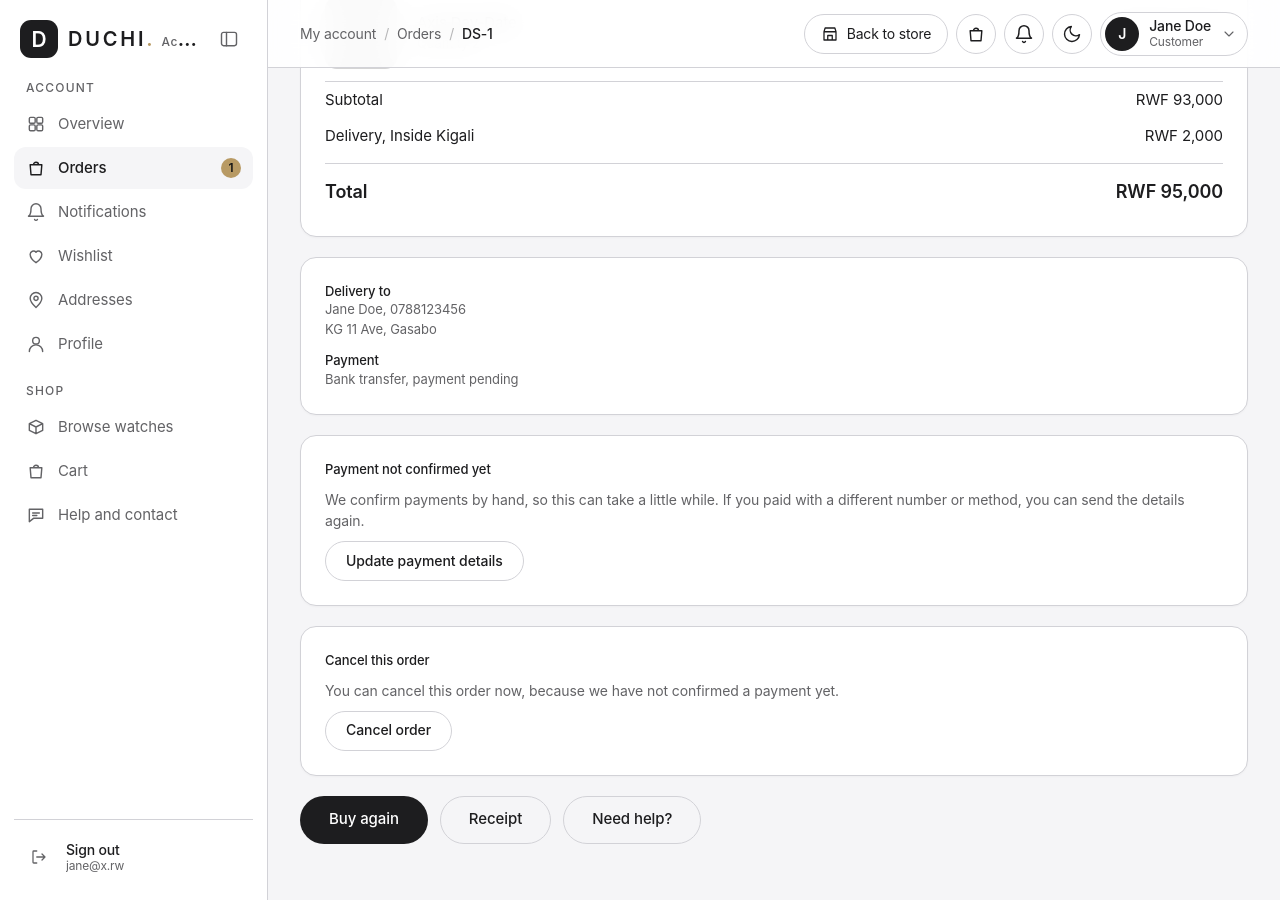
Test: a customer cancels an order that has no confirmed payment › cancels at once after a confirmation in the toast; the watches go back into stock
(page scrolled)
expect the text "You can cancel this order now, because we have not confirmed a payment yet" is shown: met, box [325,682,839,698]
Click the button "Cancel order". click: {"x": 389, "y": 730}
box: [325,710,452,750]
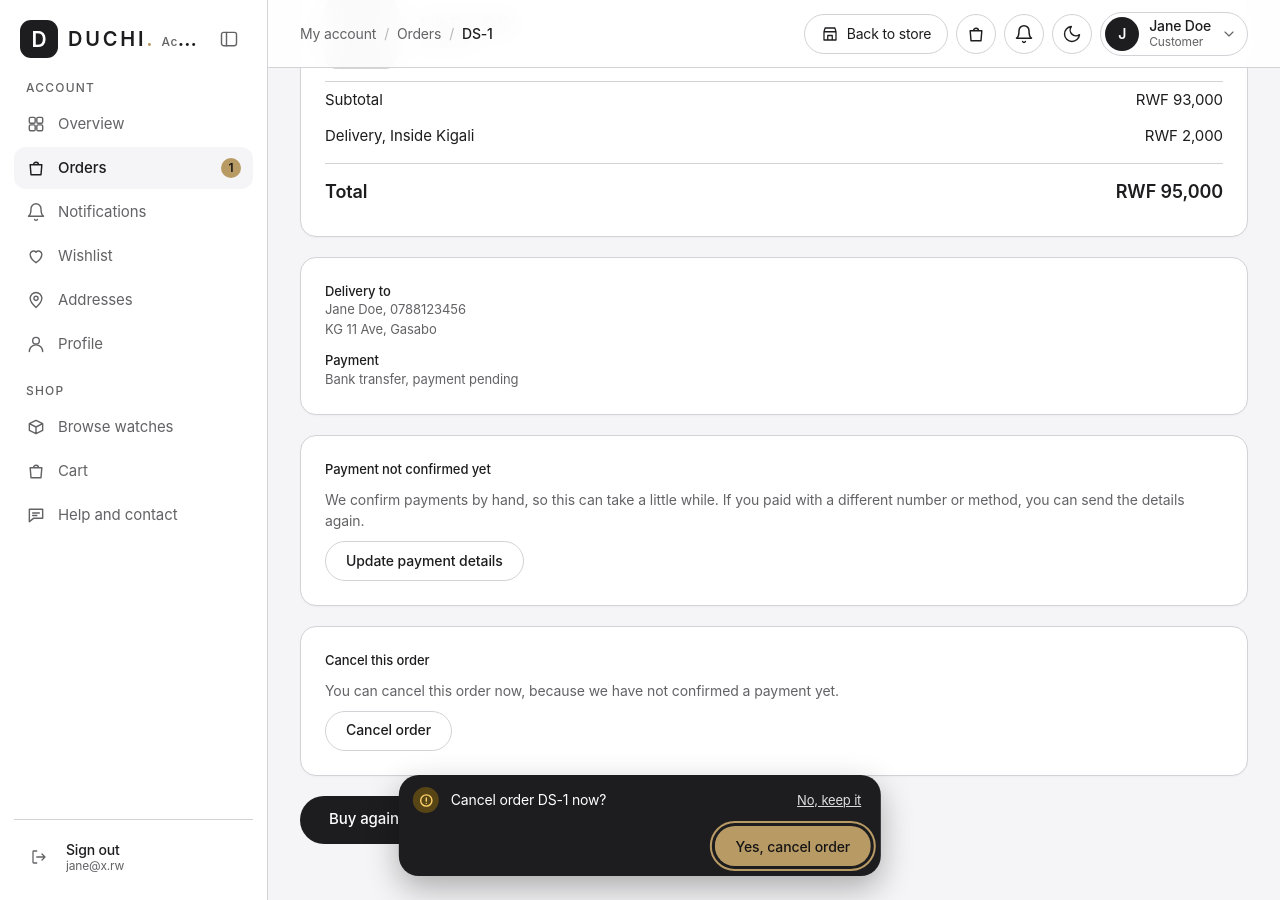
expect the dialog shows "Cancel order DS-1 now?": met, box [451,792,606,808]
Click the button "No, keep it". click: {"x": 829, "y": 800}
box: [787,784,871,816]
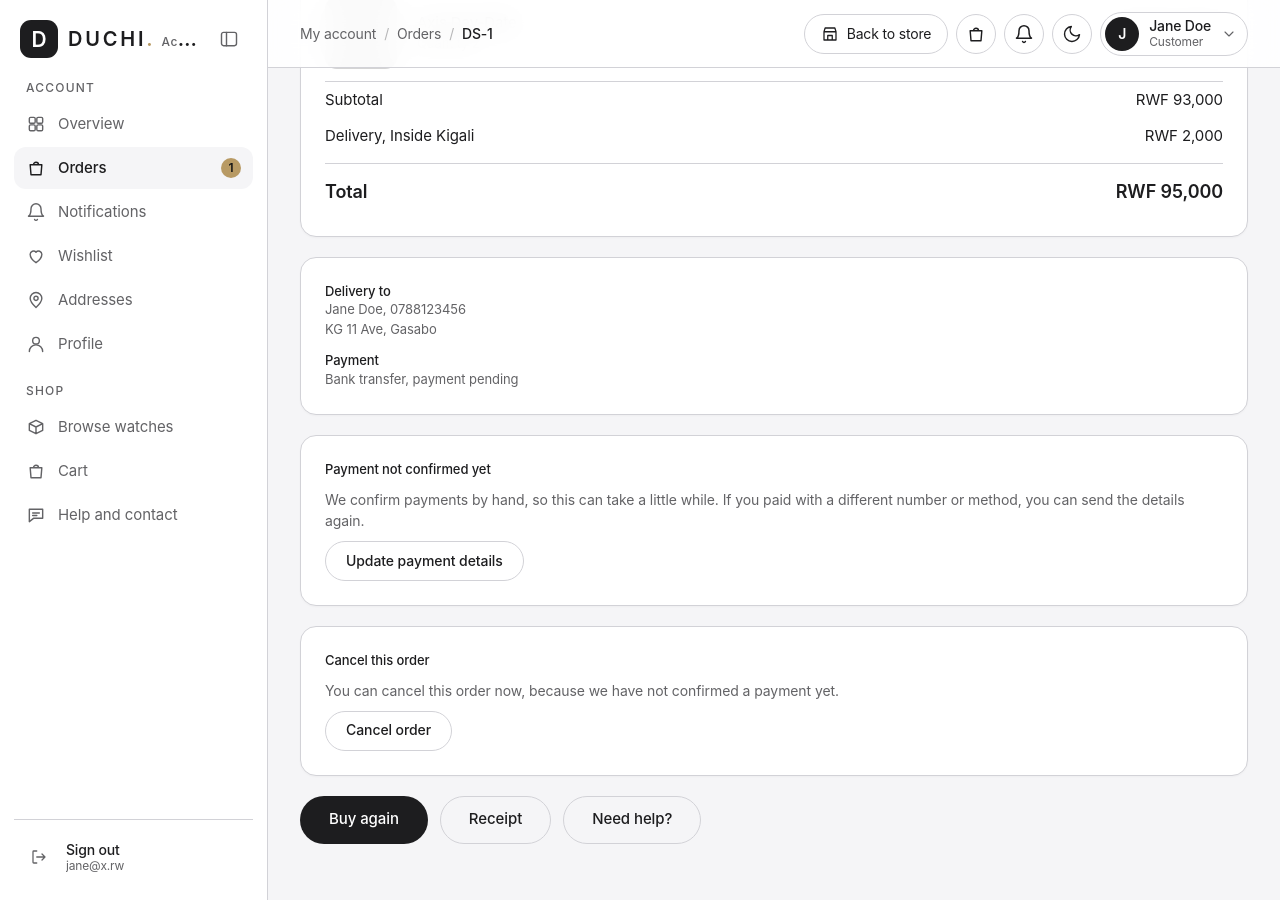
Click the button "Cancel order". click: {"x": 389, "y": 730}
box: [325,710,452,750]
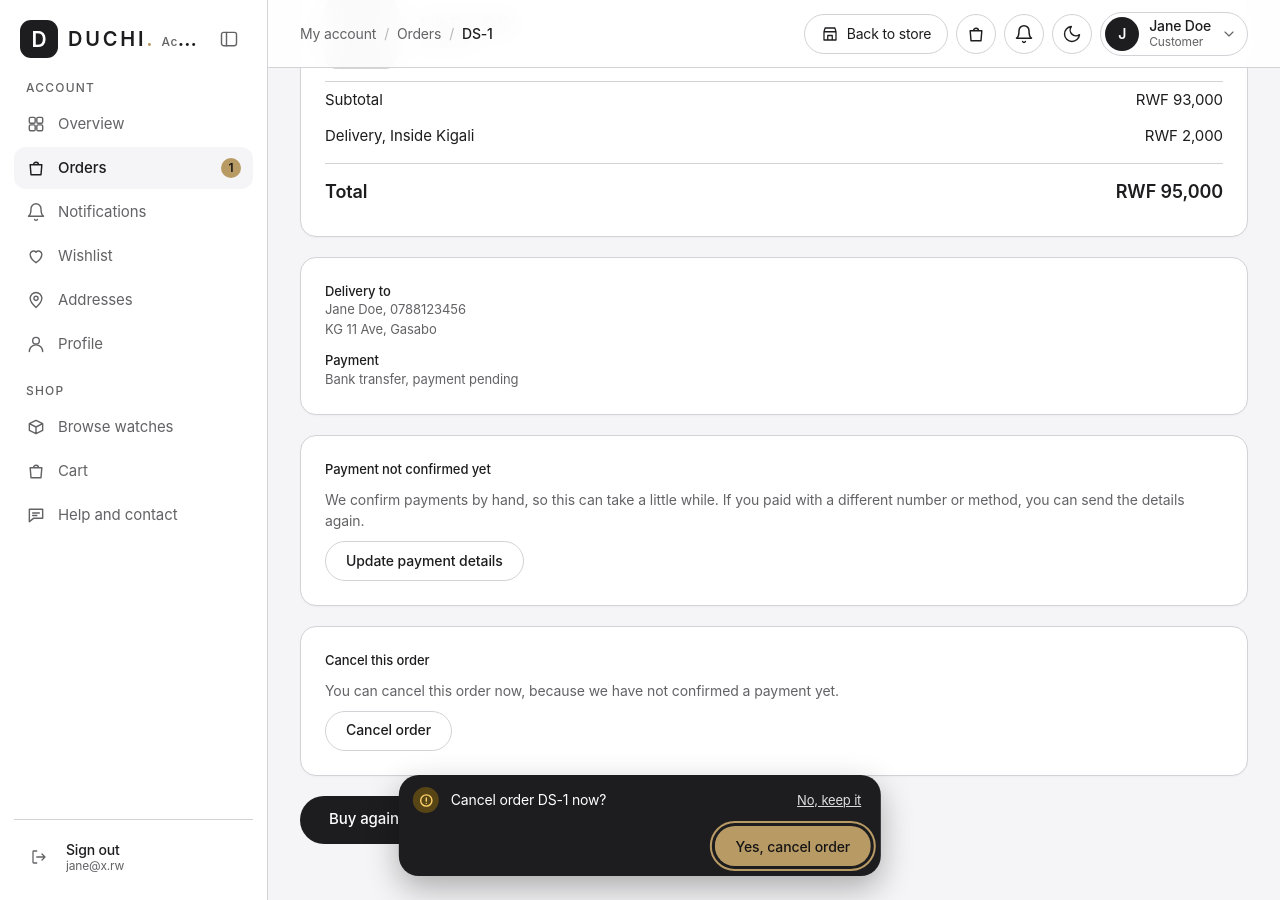
Click the button "Yes, cancel order". click: {"x": 793, "y": 846}
box: [714,826,871,866]
(page scrolled)
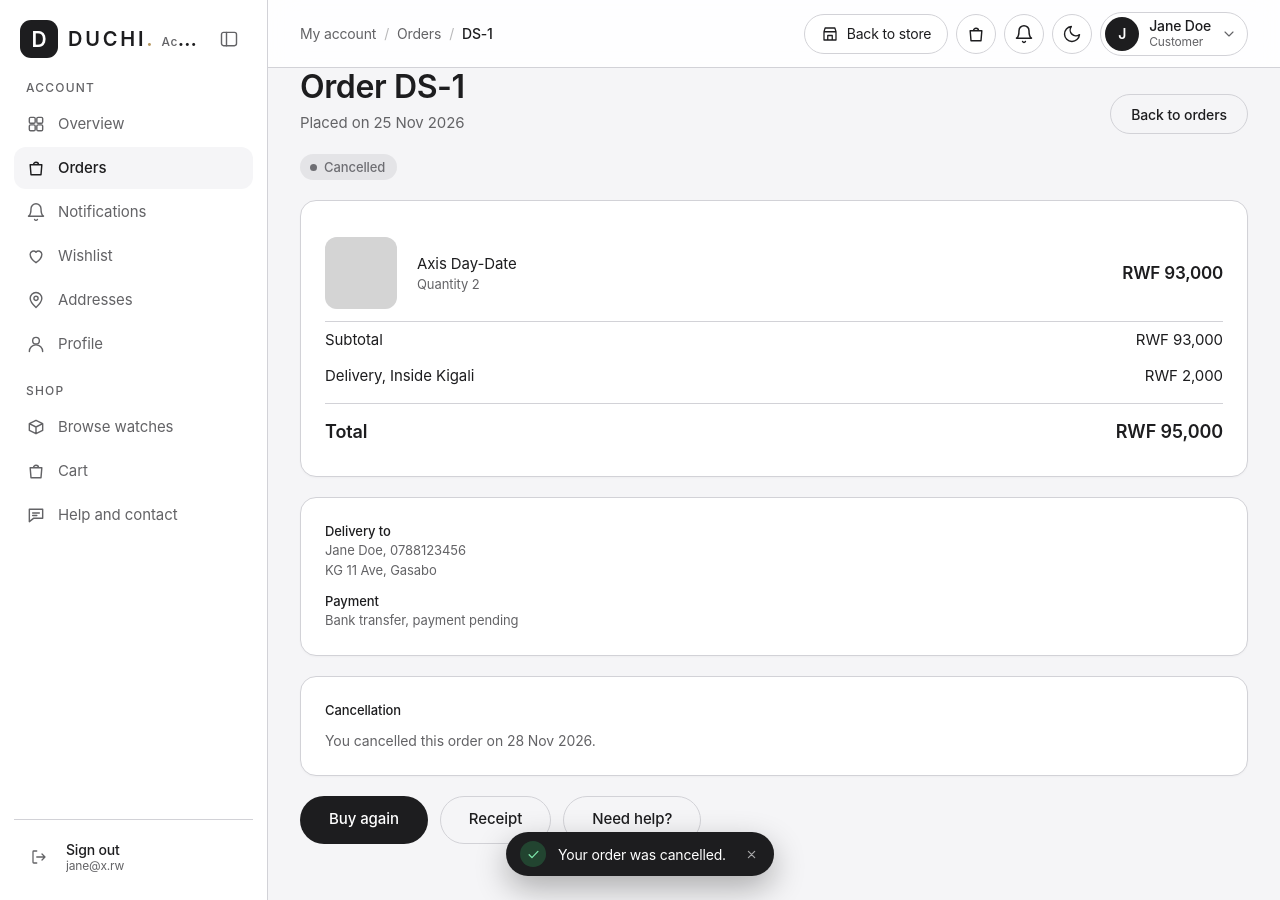
expect the text "jane@x.rw" is shown: met, box [66,858,124,873]
expect the text "You cancelled this order on 28 Nov 2026." is shown: met, box [325,732,596,748]
